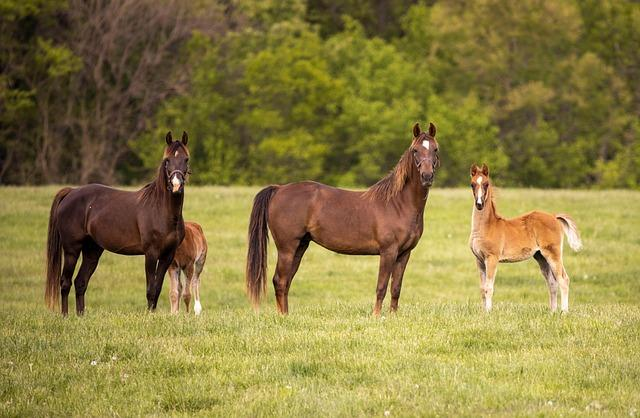Non_Gorille: (0, 1, 640, 418)
